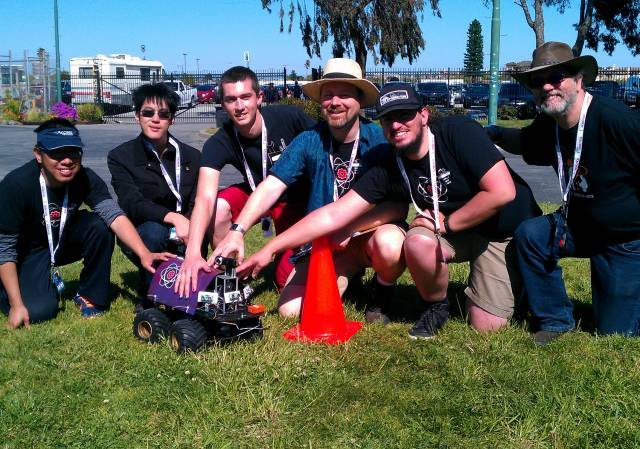trafficcone: (282, 229, 364, 349)
